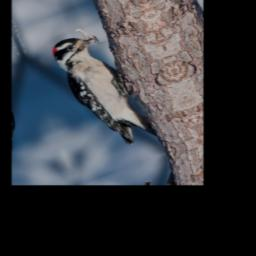Woodpecker: (48, 23, 155, 158)
